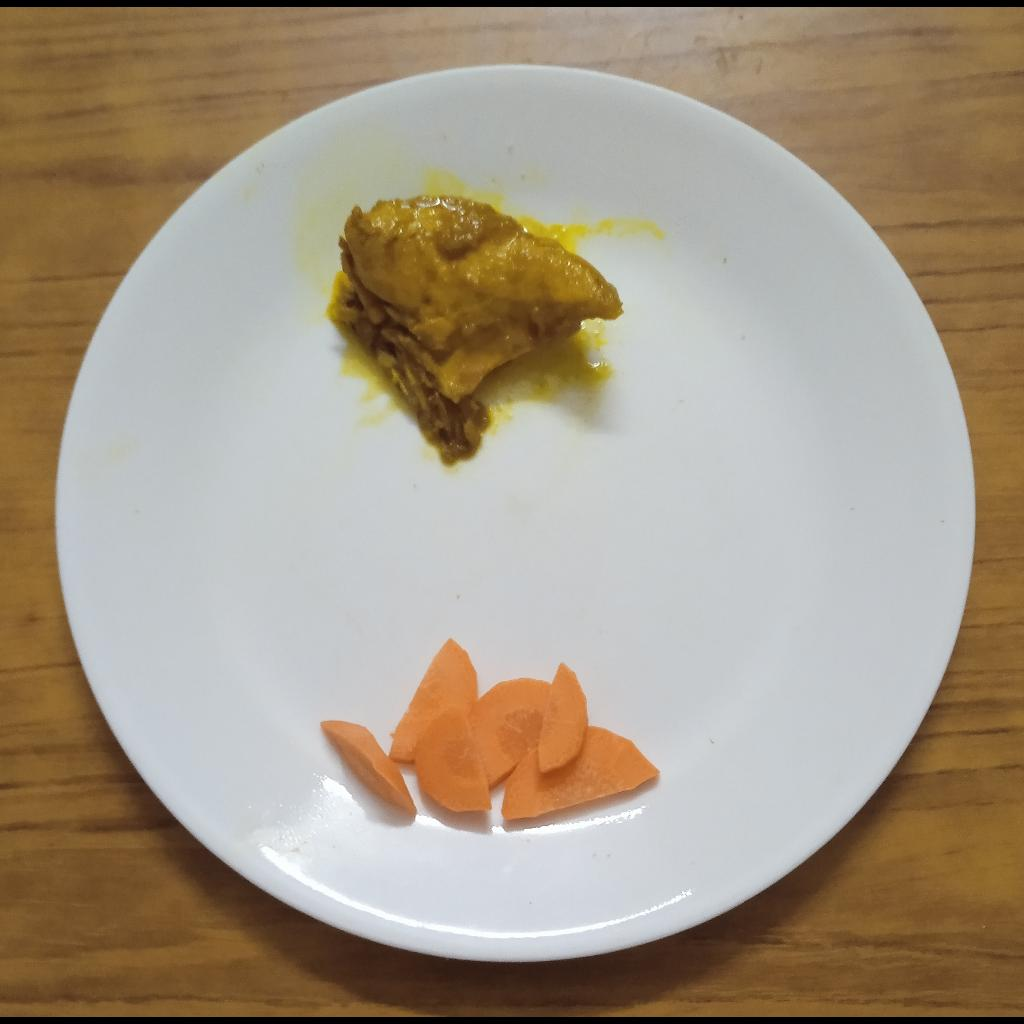carrot: (321, 638, 664, 821)
chicken: (336, 195, 626, 472)
